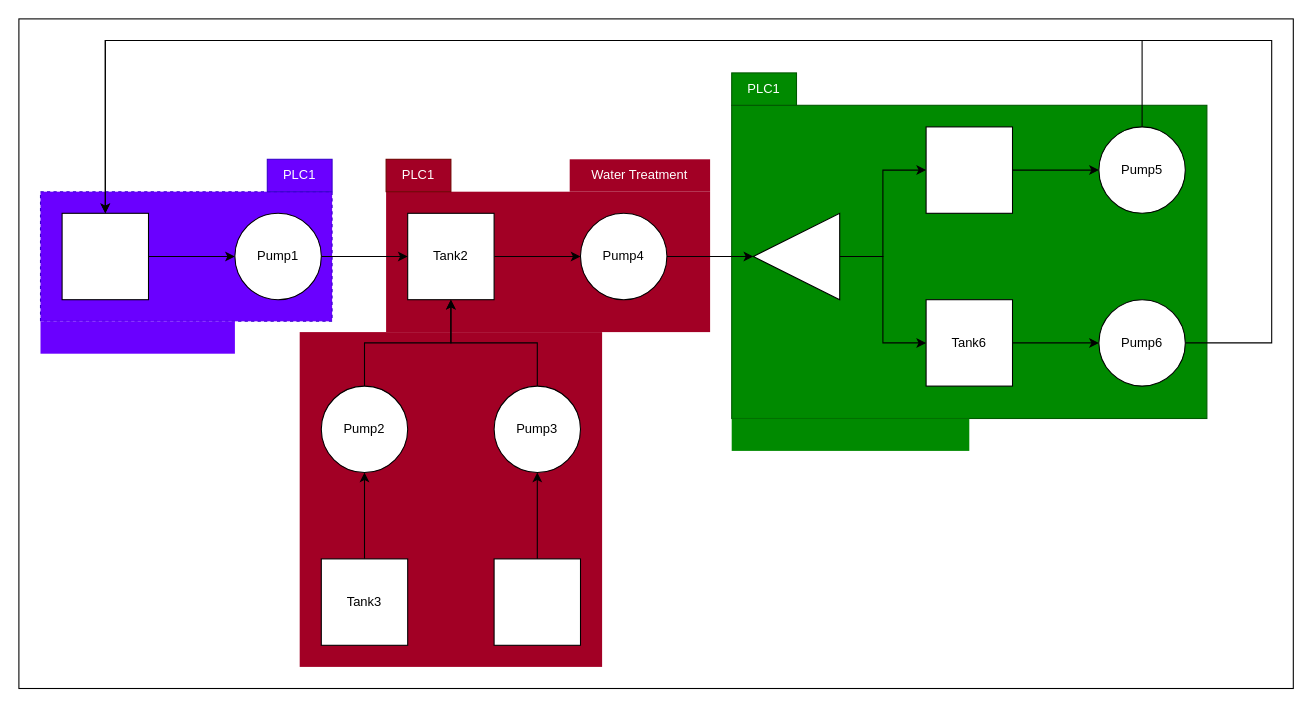
Image size: 1312x707. Some labels were removed from this diagram. Each missing label, with the centre of its shape:
Clean Water Storage & "Usage": [850,434]
Splitter: [796,256]
Tank1: [104,256]
Tank4: [536,601]
Tank5: [969,169]
Waste Water Collection: [137,337]
